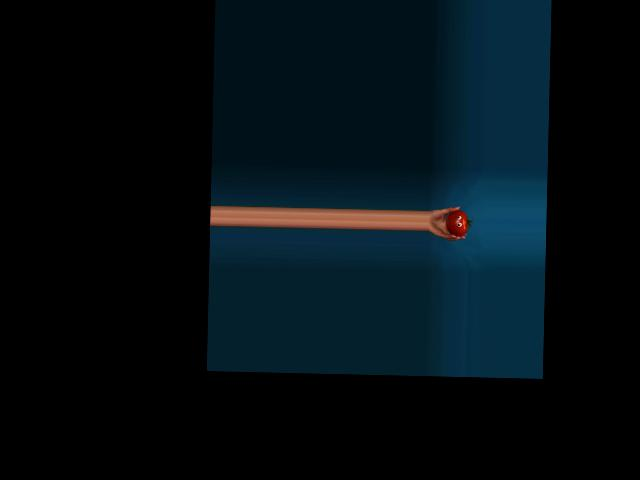tomato: (445, 209, 468, 236)
